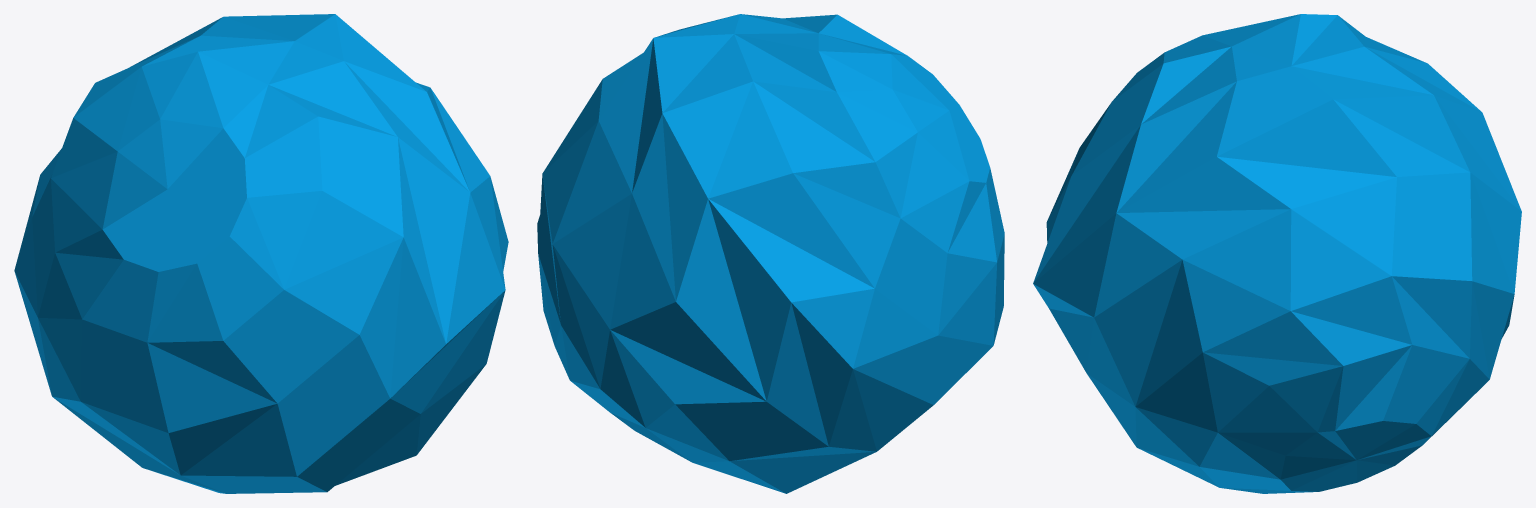
The model's file is neptune.glb.
3 views of the same model, side by side, from view 1: azimuth 30°, elevation 25°; view 2: azimuth 150°, elevation 25°; view 3: azimuth 270°, elevation 25° (orthographic). The views are drawn at different scales.
Visible parts, largest first — view 1: Node; view 2: Node; view 3: Node.
Boxes of the visible parts, box(x1,y1,x2,y2) form: Node: box(14, 14, 508, 493); Node: box(537, 14, 1004, 493); Node: box(1033, 14, 1521, 493).
Size of the model in its own units: 0.5017 by 0.5041 by 0.5147.
